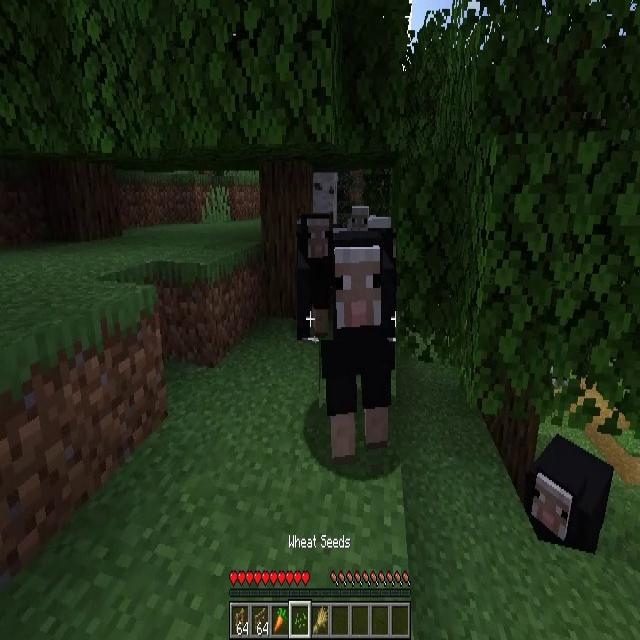sheep: (319, 228, 396, 465), (529, 437, 613, 550), (297, 214, 333, 340), (347, 206, 391, 250)
